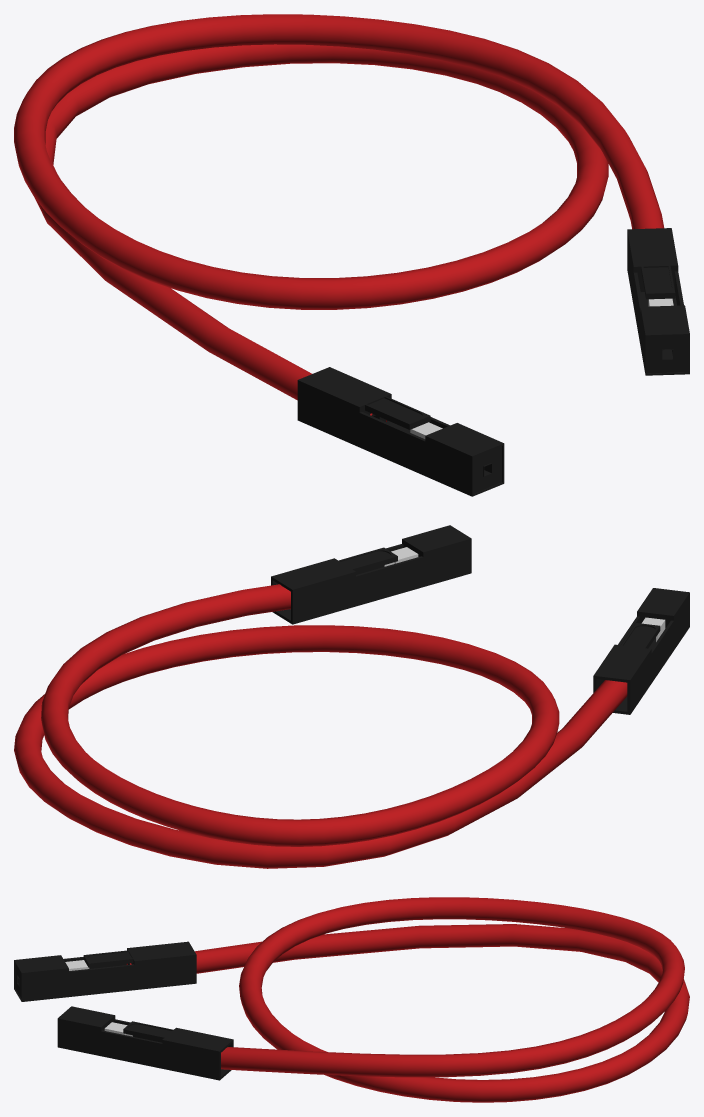
The model's file is F-F REVISII.fbx.
3 renders of one model, top to bottom at view 1: azimuth 30°, elevation 25°; view 2: azimuth 150°, elevation 25°; view 3: azimuth 270°, elevation 25°, orthographic. The views are drawn at different scales.
Visible parts, largest first — view 1: laut.002; view 2: laut.002; view 3: laut.002.
Part boxes in pixels (x1,y1,x2,y2): laut.002: [14, 14, 689, 496]; laut.002: [14, 525, 689, 868]; laut.002: [14, 897, 689, 1102].
Bounding box in the file's own units: 10.41 × 1.93 × 16.34.
